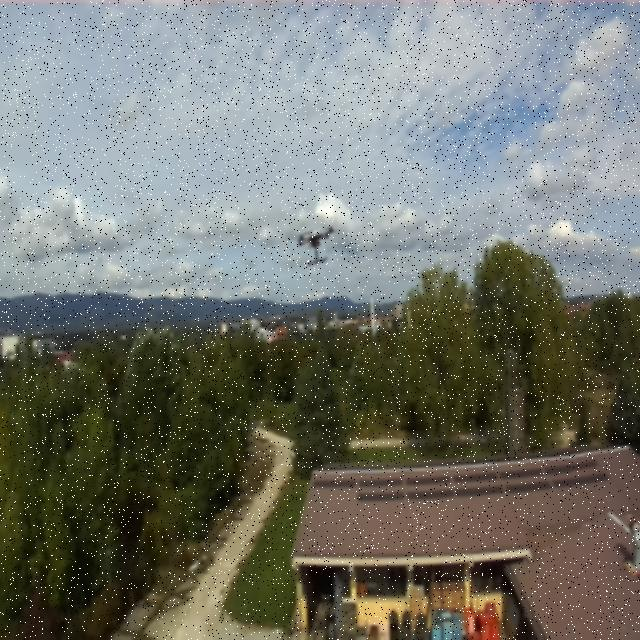UAV: (291, 219, 343, 269)
